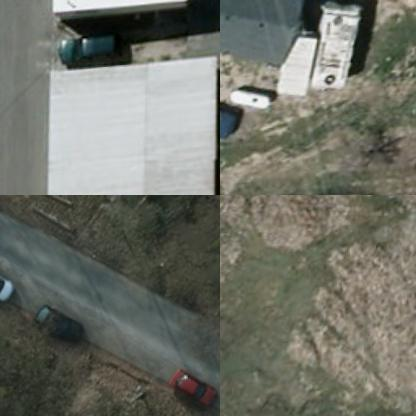camping car: (308, 0, 370, 98), (271, 29, 324, 99)
car: (36, 294, 94, 352), (59, 30, 125, 68), (170, 368, 219, 413), (0, 259, 20, 304)
pickup: (220, 88, 245, 150)
